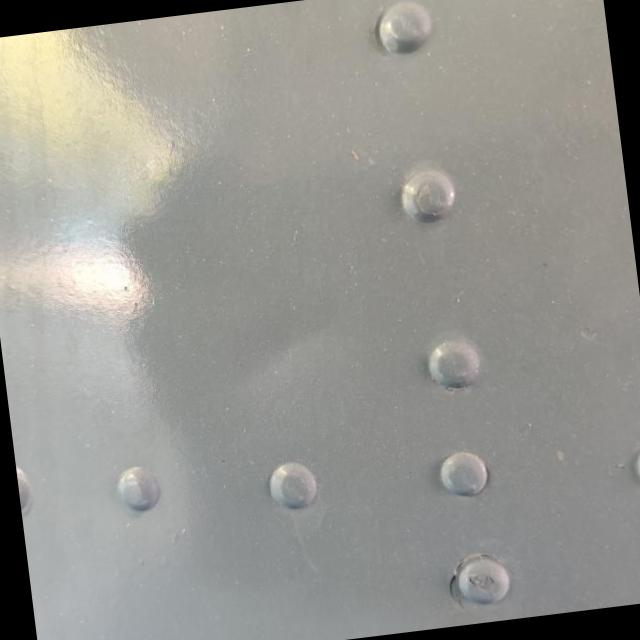Dent: (209, 296, 353, 432)
